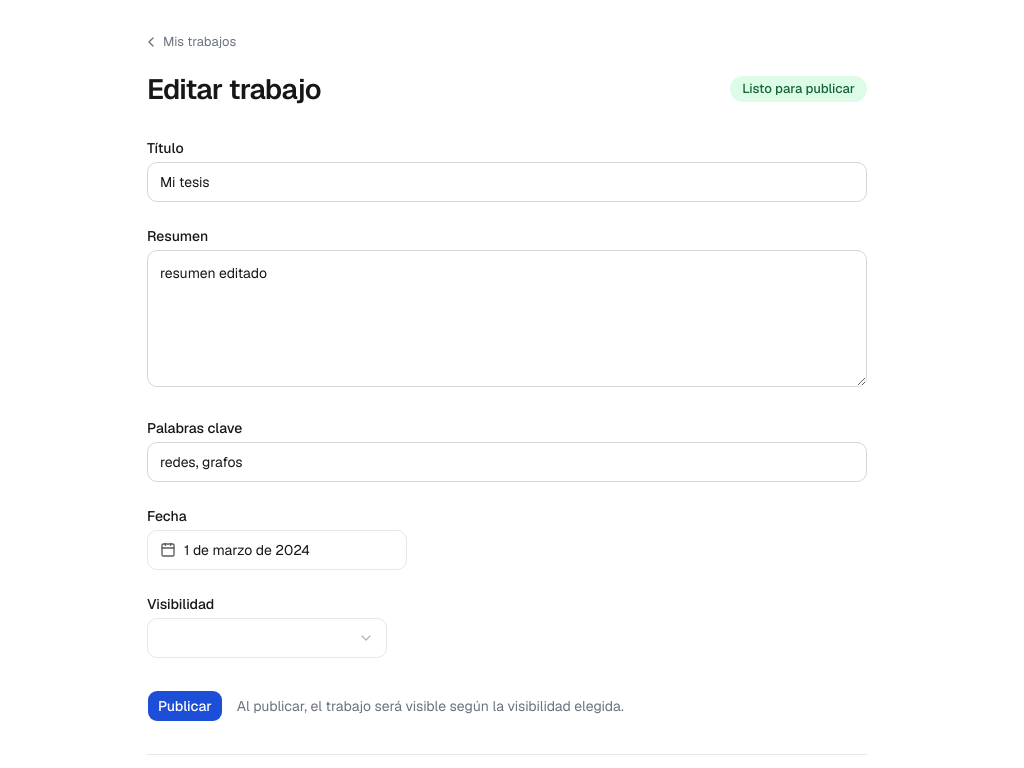
editar page › Restaurar reverts the field to its seeded value without persisting
The width and height of the screenshot is (1024, 768).
Replace the text in the text box labelled "Resumen" with "otro texto": (507, 318) [147, 250, 867, 387]
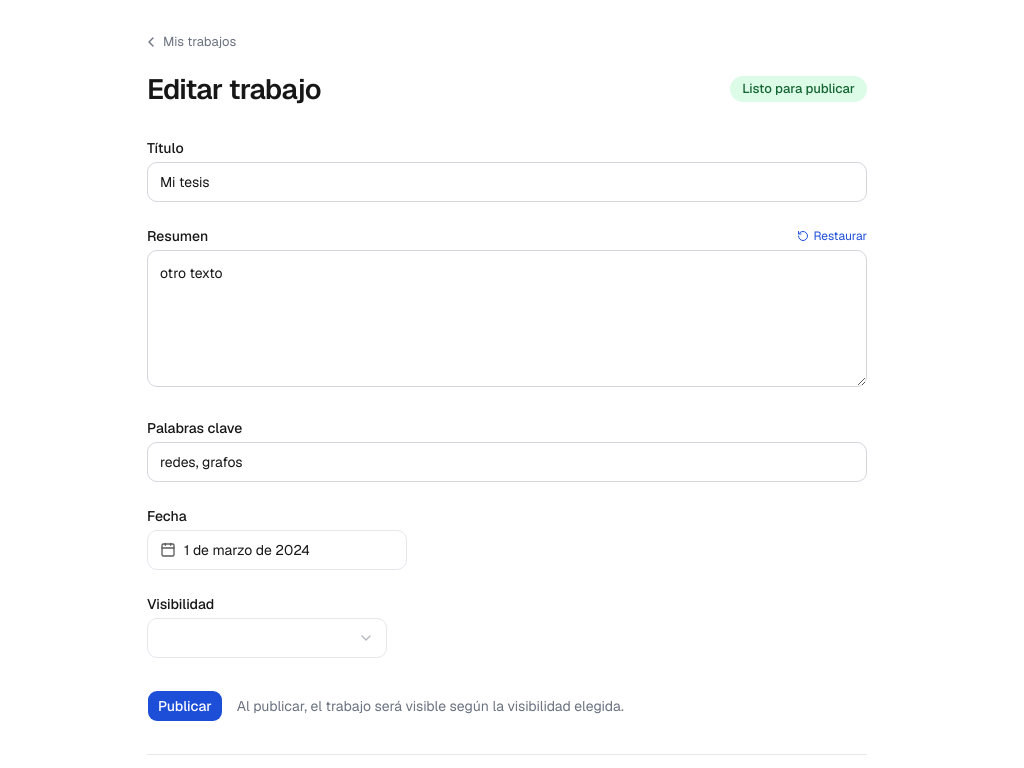
Click the button with test id "restore-abstract": (832, 236) [797, 228, 867, 244]
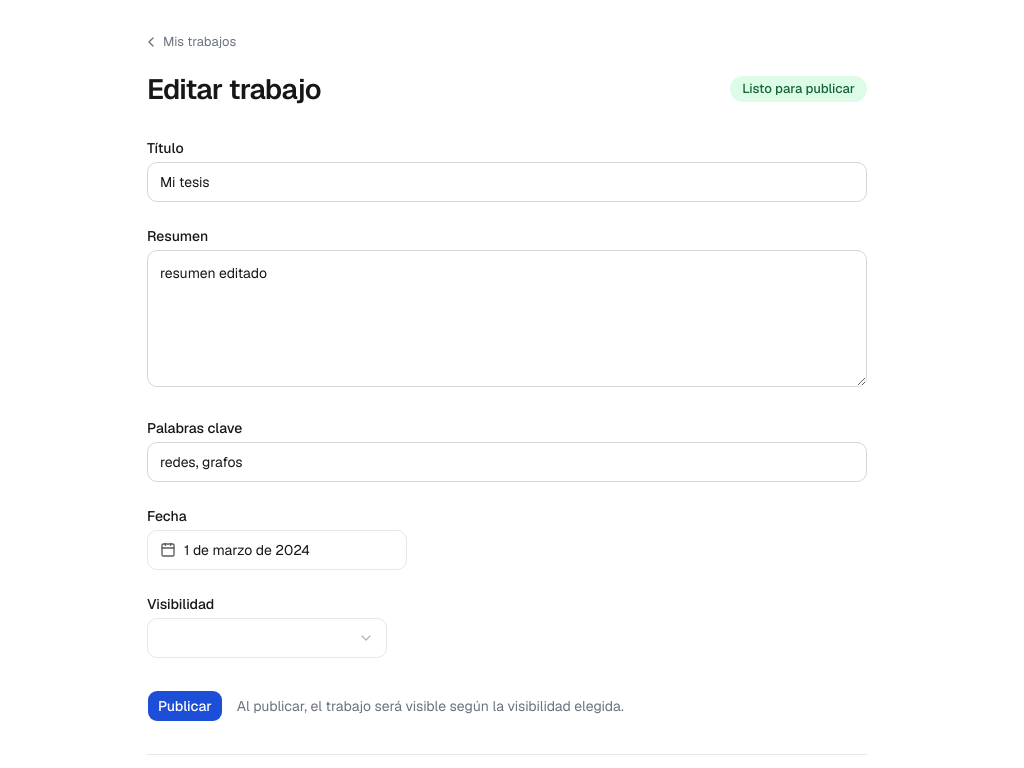
Result: the text box labelled "Resumen" holds "resumen editado" at [147, 250, 867, 387]
Result: the button with test id "restore-abstract" is gone
